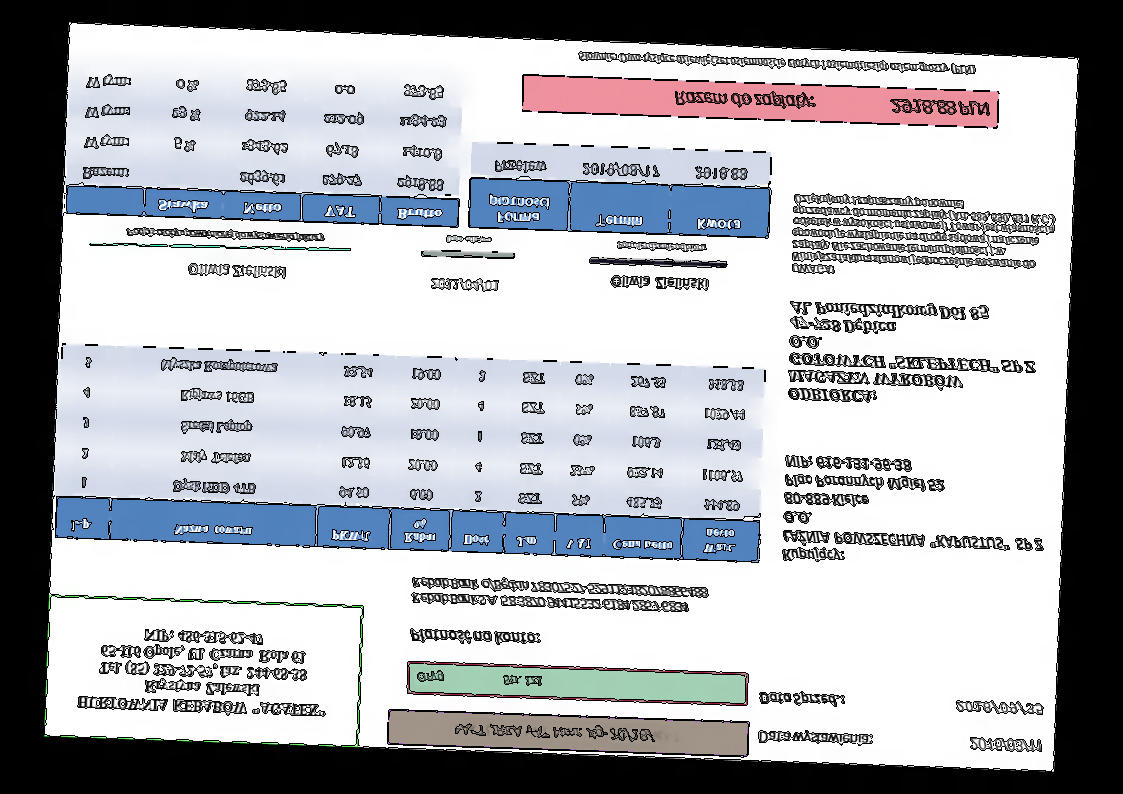Table: (53, 343, 767, 563), (64, 62, 464, 228), (467, 140, 772, 240)
TextBox: (779, 452, 1048, 572), (784, 296, 1040, 411), (73, 620, 331, 725), (789, 192, 1059, 286), (575, 47, 978, 81), (409, 575, 710, 617), (671, 87, 991, 121), (448, 720, 684, 746), (123, 223, 327, 247), (756, 724, 875, 751), (407, 625, 542, 648), (413, 668, 546, 691), (184, 260, 290, 283), (952, 696, 1046, 718), (607, 273, 710, 293), (757, 688, 847, 710), (967, 735, 1044, 755), (614, 239, 709, 255), (429, 274, 500, 294), (443, 234, 493, 246)
